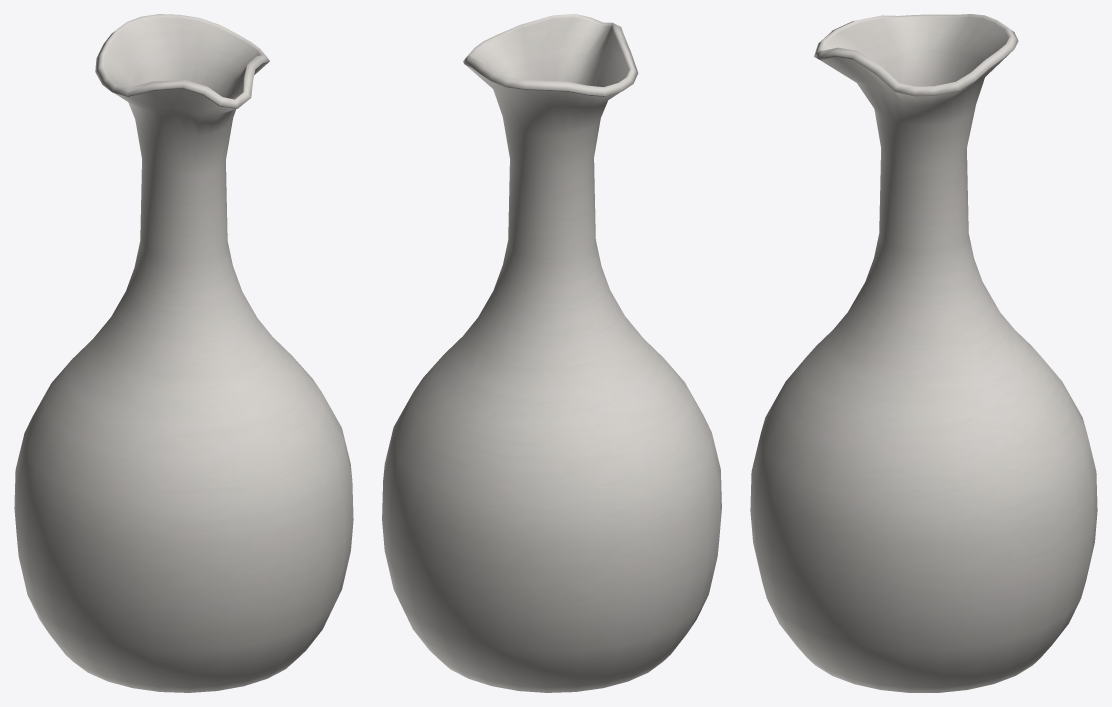
File: ceramic_vase_01_1k.glb
3 views of the same model, side by side, from view 1: azimuth 30°, elevation 25°; view 2: azimuth 150°, elevation 25°; view 3: azimuth 270°, elevation 25° (orthographic). The views are drawn at different scales.
Parts seen in each view (by area): view 1: ceramic_vase_01; view 2: ceramic_vase_01; view 3: ceramic_vase_01.
Part boxes in pixels (x1,y1,x2,y2): ceramic_vase_01: (14,14,353,692); ceramic_vase_01: (382,14,721,692); ceramic_vase_01: (750,14,1097,692).
Bounding box in the file's own units: 0.2049 × 0.4014 × 0.2064.
Materials: 1 (1 with a texture image).
